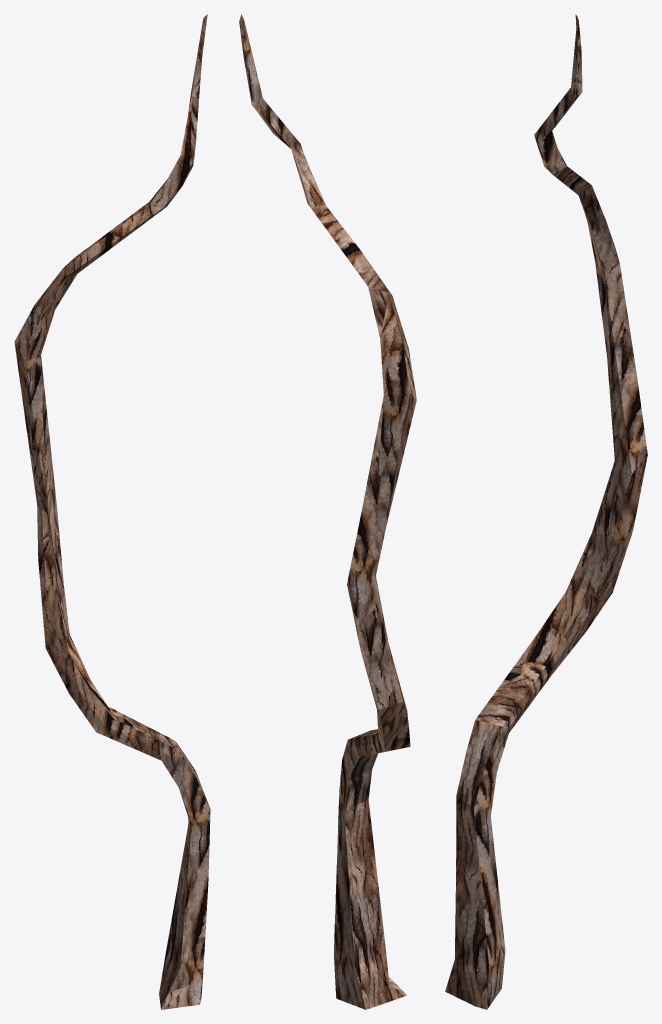
Rendered from Forest_1_Tree_7.gltf.
The picture shows the model from 3 angles, left to right: view 1: azimuth 30°, elevation 25°; view 2: azimuth 150°, elevation 25°; view 3: azimuth 270°, elevation 25°; orthographic projection. The views are drawn at different scales.
Visible parts, largest first — view 1: Forest_1_Tree_7; view 2: Forest_1_Tree_7; view 3: Forest_1_Tree_7.
Part boxes in pixels (left/top/right/bottom): Forest_1_Tree_7: left=14, top=14, right=210, bottom=1009; Forest_1_Tree_7: left=239, top=14, right=416, bottom=1009; Forest_1_Tree_7: left=445, top=14, right=647, bottom=1009.
Bounding box in the file's own units: 4.79 × 24.4 × 4.39.
1 material, 1 textured.
